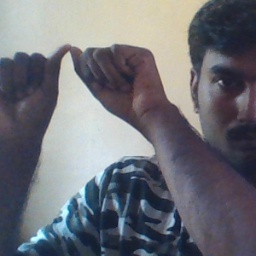A: (3, 34, 139, 120)
